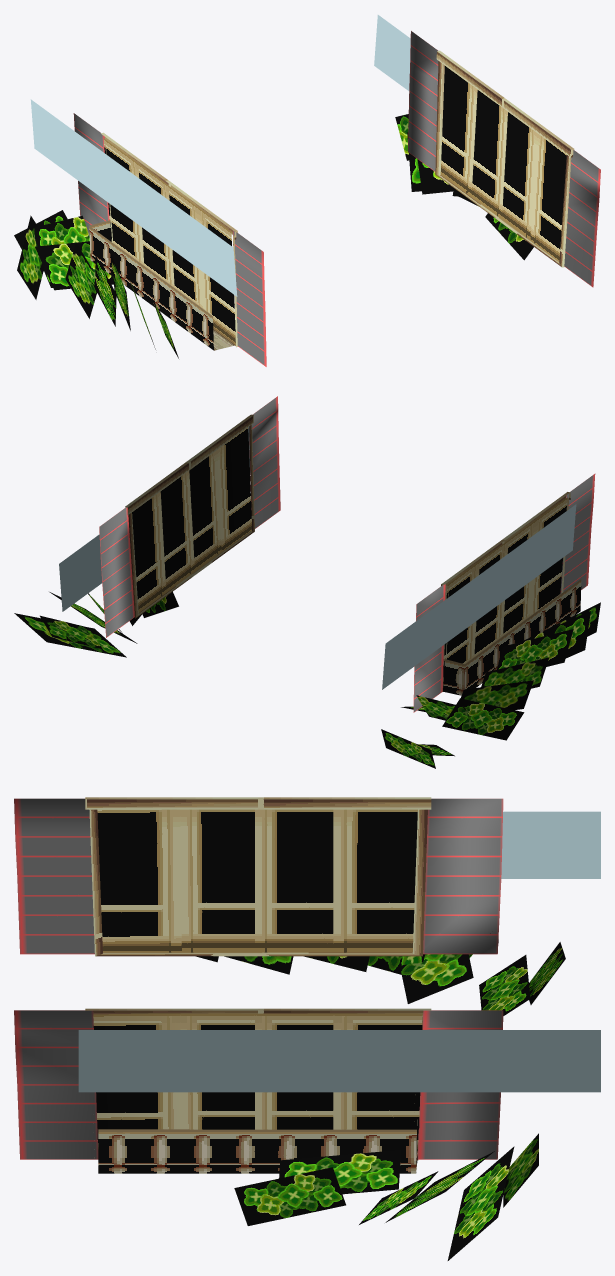
The picture shows the model from 3 angles, top to bottom: view 1: azimuth 30°, elevation 25°; view 2: azimuth 150°, elevation 25°; view 3: azimuth 270°, elevation 25°; orthographic projection. The views are drawn at different scales.
Parts seen in each view (by area): view 1: l00_kb1; view 2: l00_kb1; view 3: l00_kb1.
Part boxes in pixels (box(x1,y1,x2,y2)): l00_kb1: box(14, 15, 600, 366); l00_kb1: box(14, 396, 600, 768); l00_kb1: box(14, 797, 600, 1260).
Size of the model in its own units: 4.89 by 1.54 by 3.75.
Materials: 7 (7 with a texture image).
